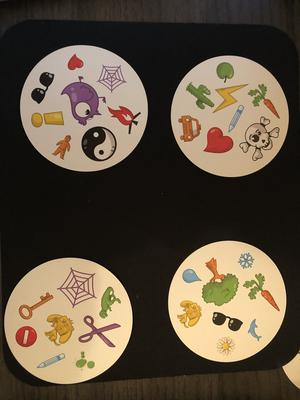arbre: (201, 257, 241, 307)
bonhomme: (52, 133, 73, 161)
cactus: (184, 79, 217, 113)
carotte: (242, 271, 285, 314), (246, 79, 283, 121)
chien: (43, 312, 76, 347), (173, 294, 203, 330)
ciseau: (78, 314, 123, 351)
cle: (18, 289, 58, 321)
coeur: (203, 125, 235, 158), (66, 52, 87, 72)
crayon: (226, 103, 247, 132), (35, 351, 67, 370)
dauphin: (245, 316, 265, 343)
dinosore: (97, 283, 124, 322)
eclair: (212, 81, 250, 114)
feu: (106, 100, 144, 136)
fleur: (213, 334, 238, 358)
flocon: (237, 250, 257, 271)
goutte: (179, 267, 204, 286)
lunette: (29, 71, 59, 106), (209, 310, 244, 334)
oiseau: (60, 76, 103, 127)
point_exclamation: (29, 108, 66, 129)
pomme: (213, 61, 236, 83)
sens_interdit: (13, 325, 39, 348)
tache: (73, 349, 97, 372)
tete_mort: (238, 116, 283, 163)
toile: (58, 266, 99, 308), (95, 62, 128, 95)
voiture: (176, 113, 204, 143)
ying_yang: (77, 125, 118, 162)
